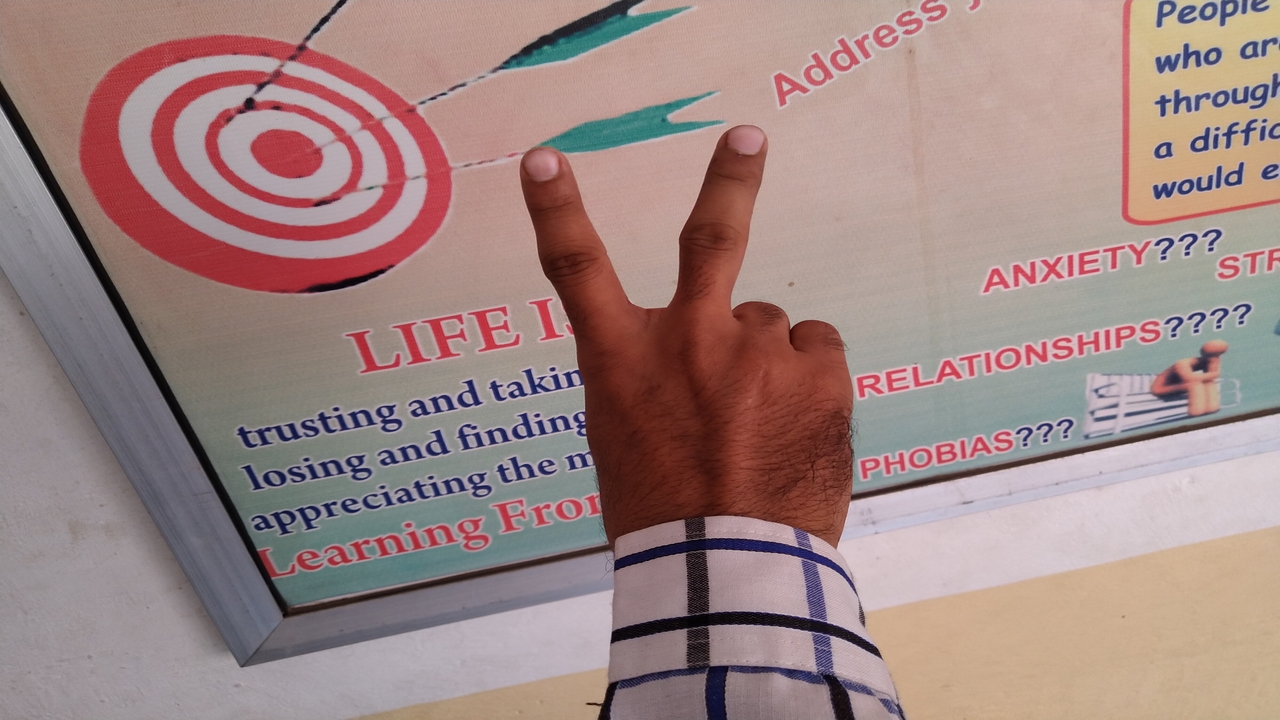fingertip: (516, 138, 578, 200), (708, 116, 776, 170)
